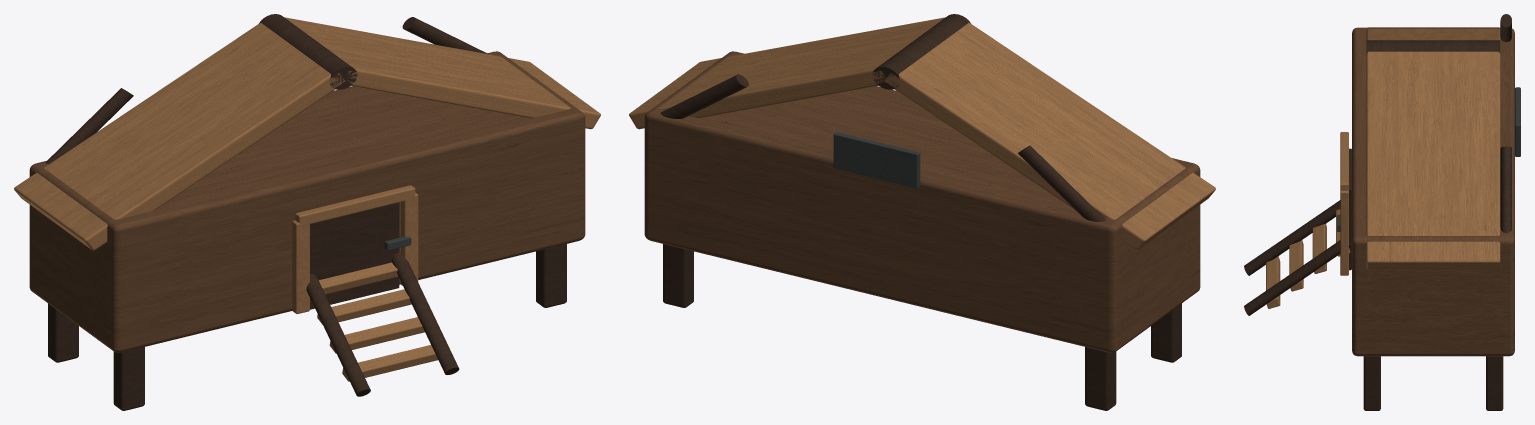
The model's file is chicken_coop.glb.
3 views of the same model, side by side, from view 1: azimuth 30°, elevation 25°; view 2: azimuth 150°, elevation 25°; view 3: azimuth 270°, elevation 25° (orthographic). The views are drawn at different scales.
Visible parts, largest first — view 1: chicken_coop; view 2: chicken_coop; view 3: chicken_coop.
Boxes of the visible parts, x1,y1,x2,y2 form: chicken_coop: [14, 14, 600, 410]; chicken_coop: [629, 14, 1215, 410]; chicken_coop: [1244, 14, 1520, 410].
Bounding box in the file's own units: 2.8 × 1.5 × 1.4.
1 material, 1 textured.
